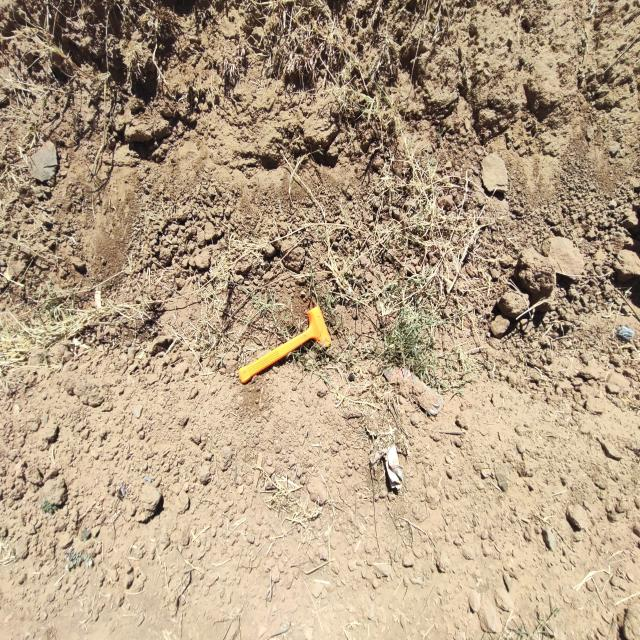Orange_hammer: (238, 304, 332, 384)
